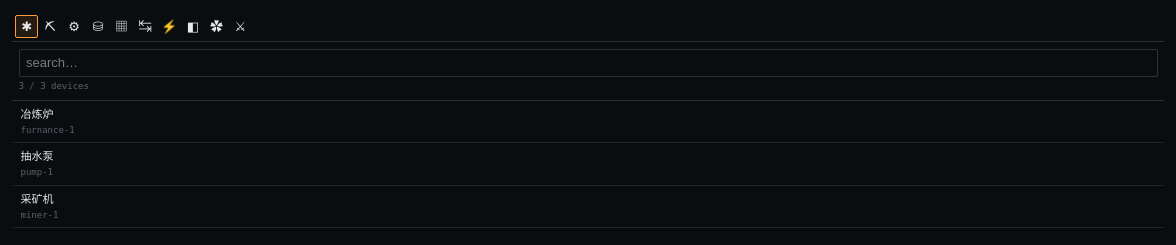
Scenario: DeviceList category tabs › search and category filter compose
In the field with placeholder "search…": (588, 63) top-left (18, 49), bottom-right (1158, 77), type "pump"
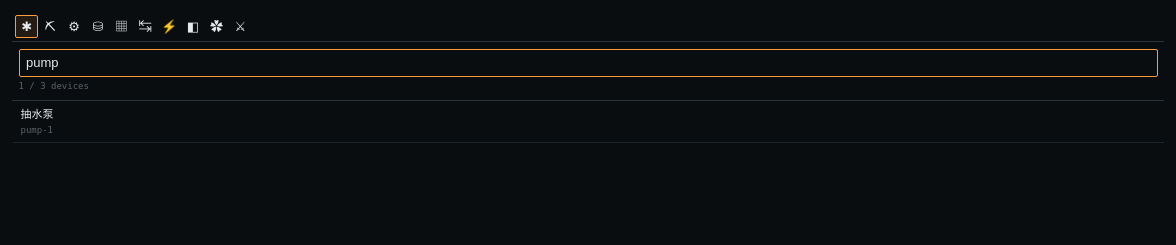
expect the text "抽水泵" is shown: met, box top-left (20, 106), bottom-right (54, 122)
expect the button "冶炼炉" is gone: met
